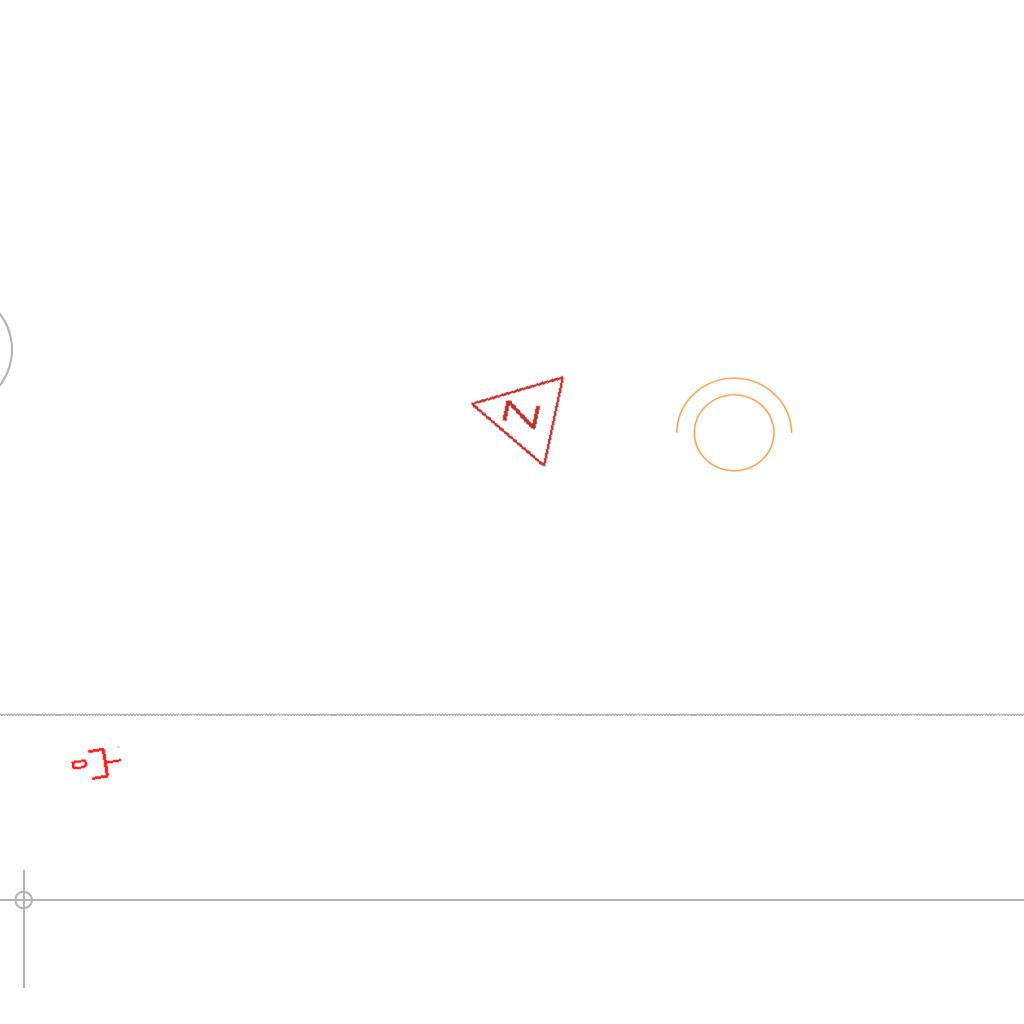Datenanschluss_einfach: (69, 743, 125, 785)
Scheinwerfer_fuer_Alarmbeleuchtung: (665, 372, 797, 484)
Zimmersignalleuchte: (453, 355, 573, 473)
